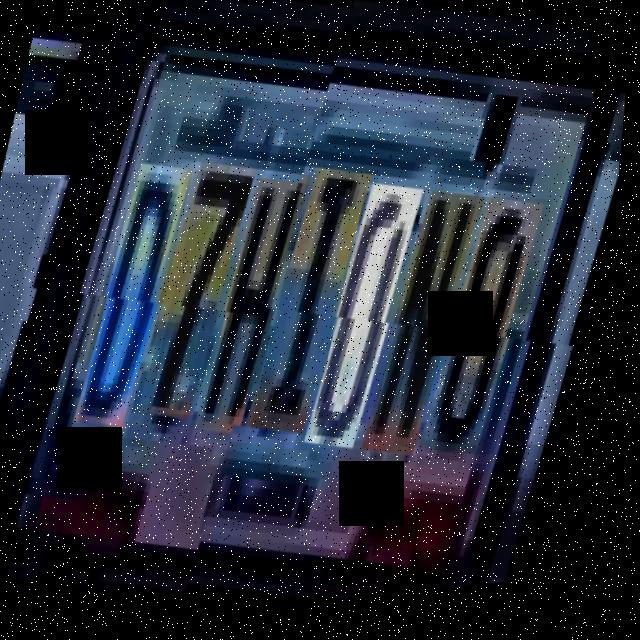0: (433, 202, 558, 472), (317, 188, 437, 464)
7: (146, 157, 269, 427)
D: (86, 160, 207, 435)
H: (208, 174, 323, 441)
I: (258, 171, 384, 449)
N: (376, 196, 497, 472)
